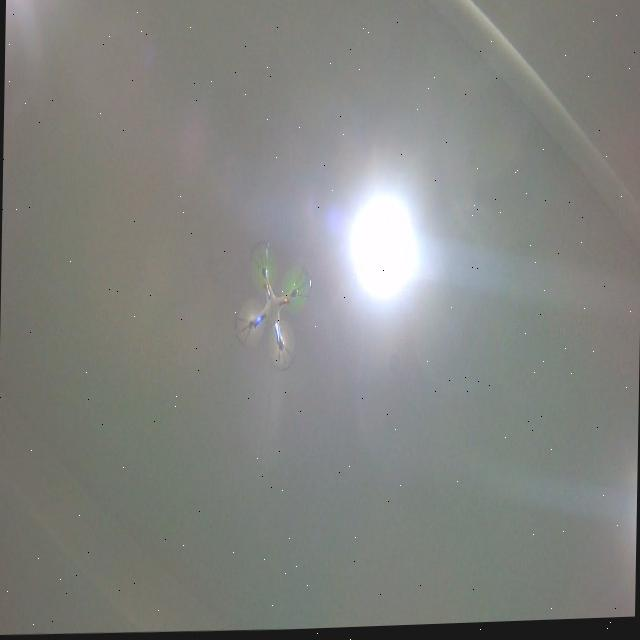drone: (232, 235, 316, 380)
